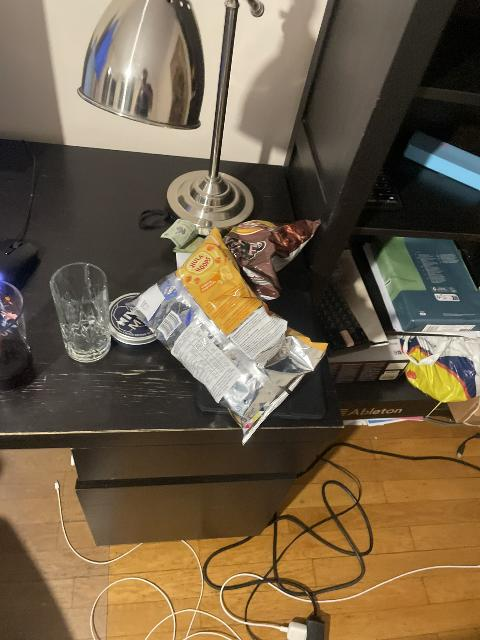Chio Hula Hoops Cheese 70g: (134, 234, 324, 431)
Lays Beef Grilled Ribs 125g: (225, 218, 319, 300)
